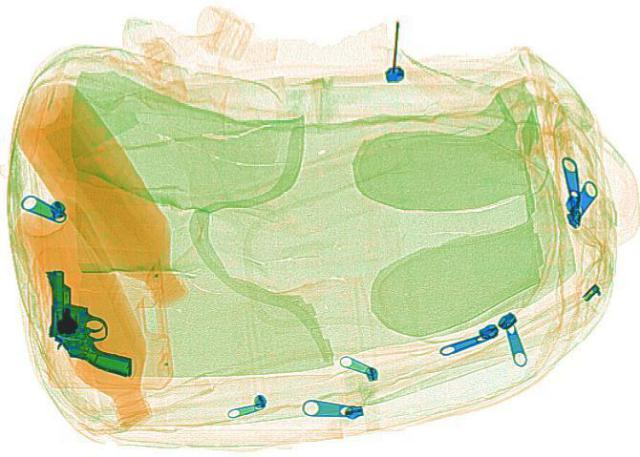Gun: (15, 257, 136, 386)
